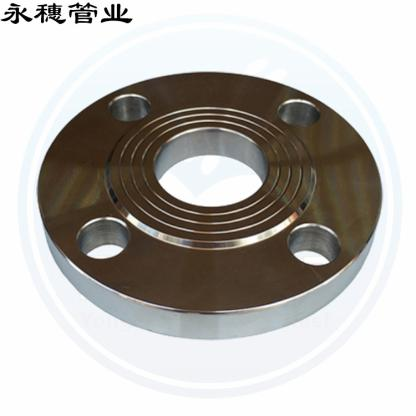FOD: (32, 68, 387, 341)
